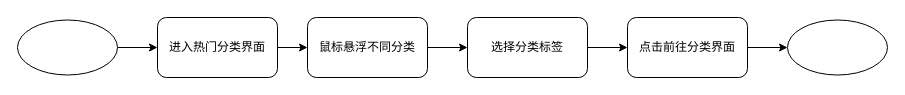
The diagram is 905 pixels wide and 95 high, and some of its shapes have lost their labels. The centre of each missing label's shape, as x and y in pixels:
"开始" goes at pixel 67 47.
"结束" goes at pixel 837 47.
